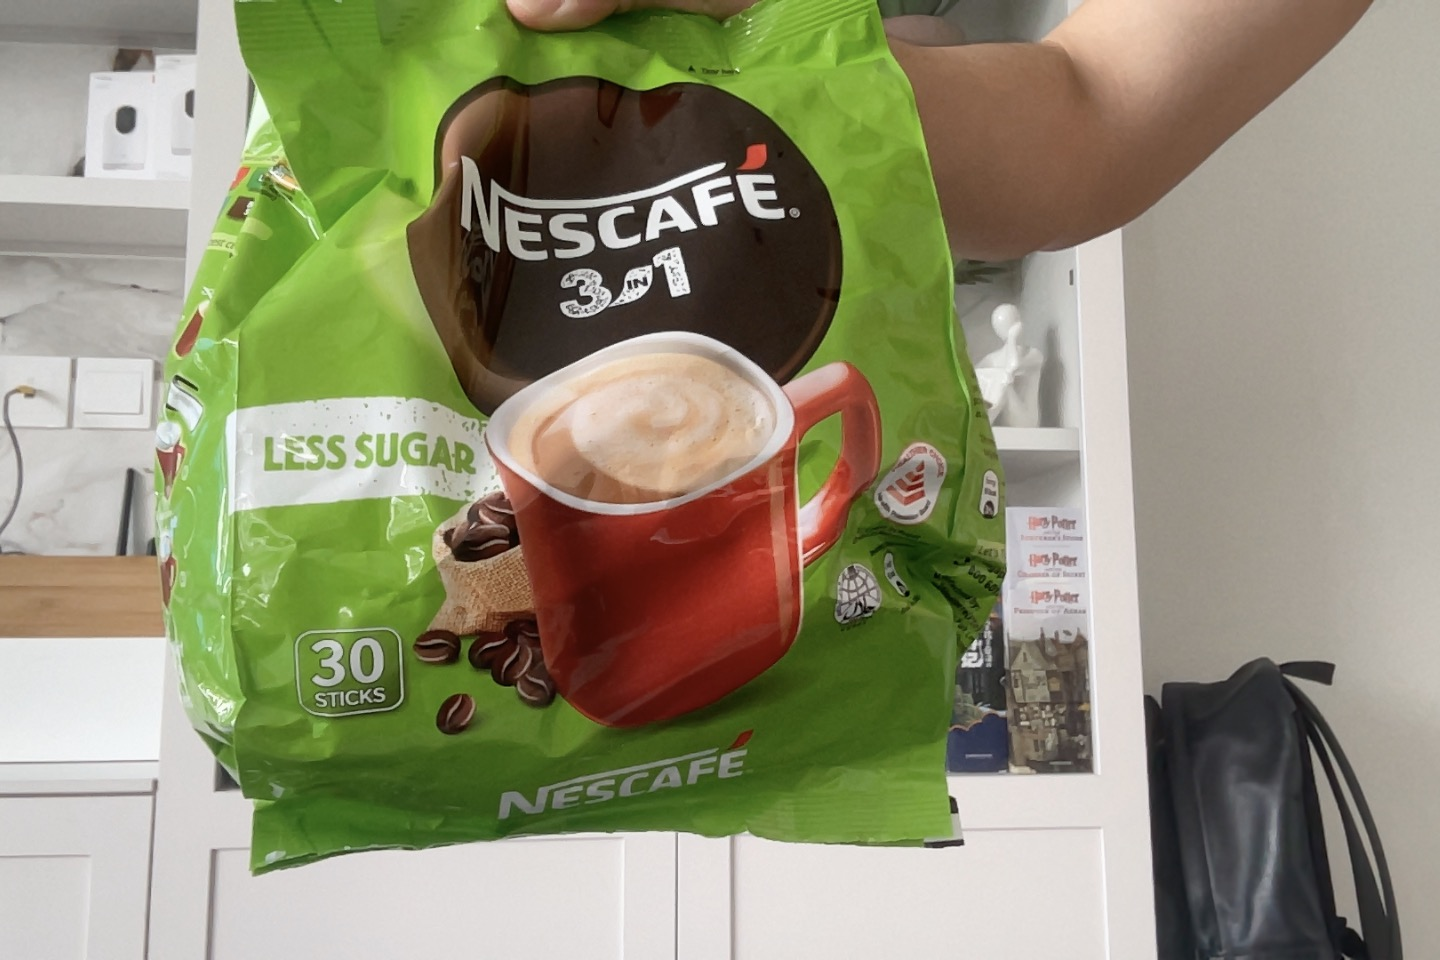Coffee_400-499g_Halal_Healthy: (449, 134, 940, 693)
